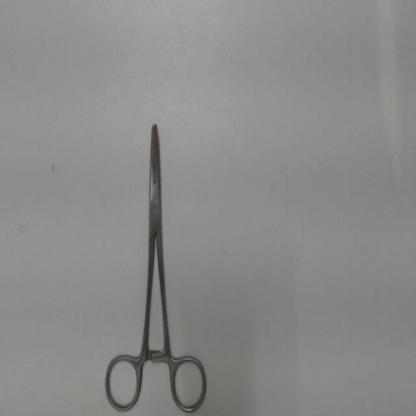Crile Artery Forceps: (100, 117, 214, 414)
